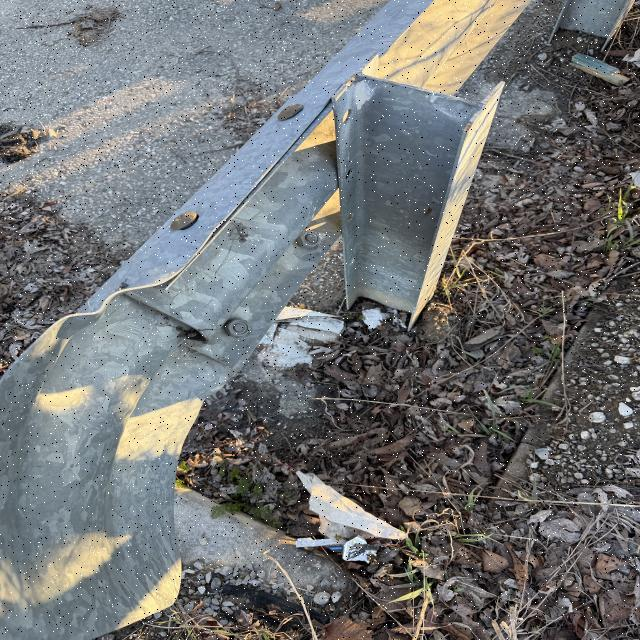Guard rail: (90, 82, 505, 341)
